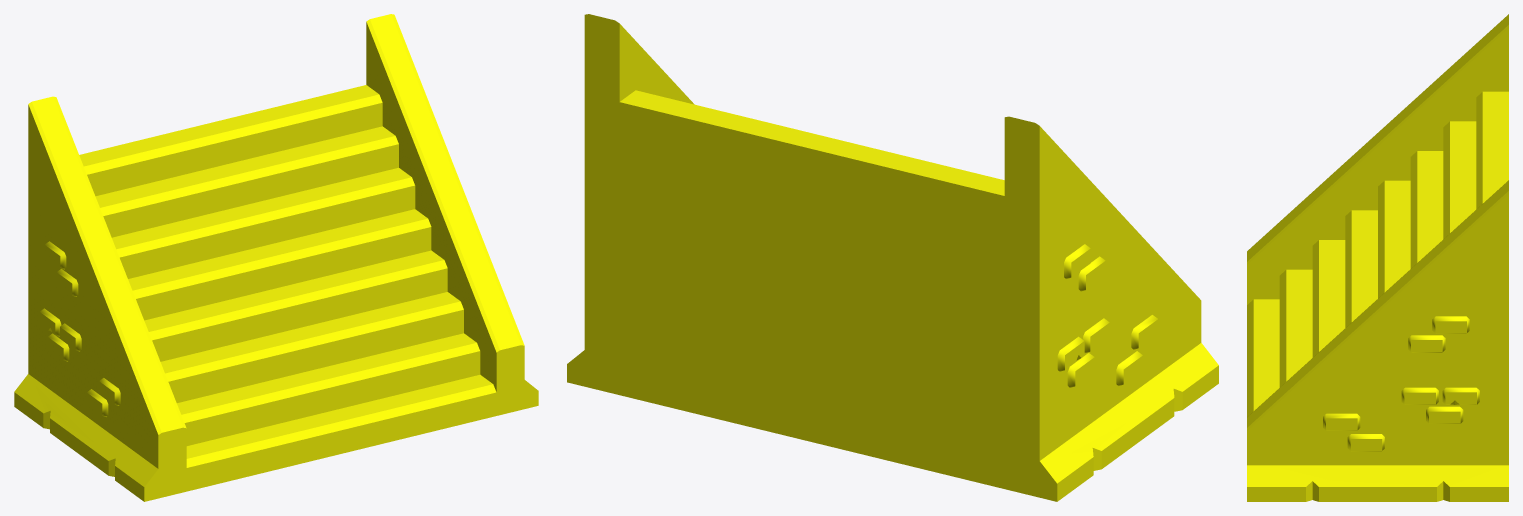
The model's file is kaykit-dungeonremastered-stairs-wide.glb.
The picture shows the model from 3 angles, left to right: view 1: azimuth 30°, elevation 25°; view 2: azimuth 150°, elevation 25°; view 3: azimuth 270°, elevation 25°; orthographic projection. The views are drawn at different scales.
Visible parts, largest first — view 1: stairs_wide; view 2: stairs_wide; view 3: stairs_wide.
Boxes of the visible parts, x1,y1,x2,y2 form: stairs_wide: [14, 14, 538, 501]; stairs_wide: [567, 14, 1218, 501]; stairs_wide: [1247, 14, 1508, 501].
Bounding box in the file's own units: 7 × 5.1 × 4.
